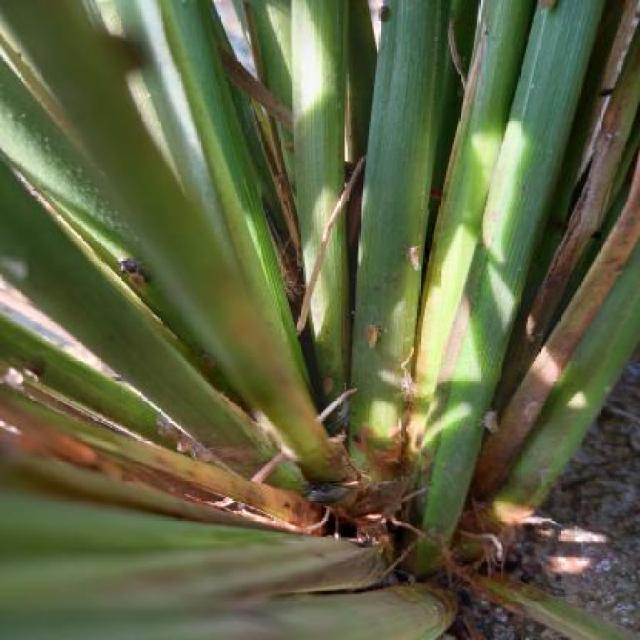wereng pada daun padi: (101, 243, 178, 293), (475, 395, 512, 451), (398, 230, 429, 284), (355, 307, 389, 356)
